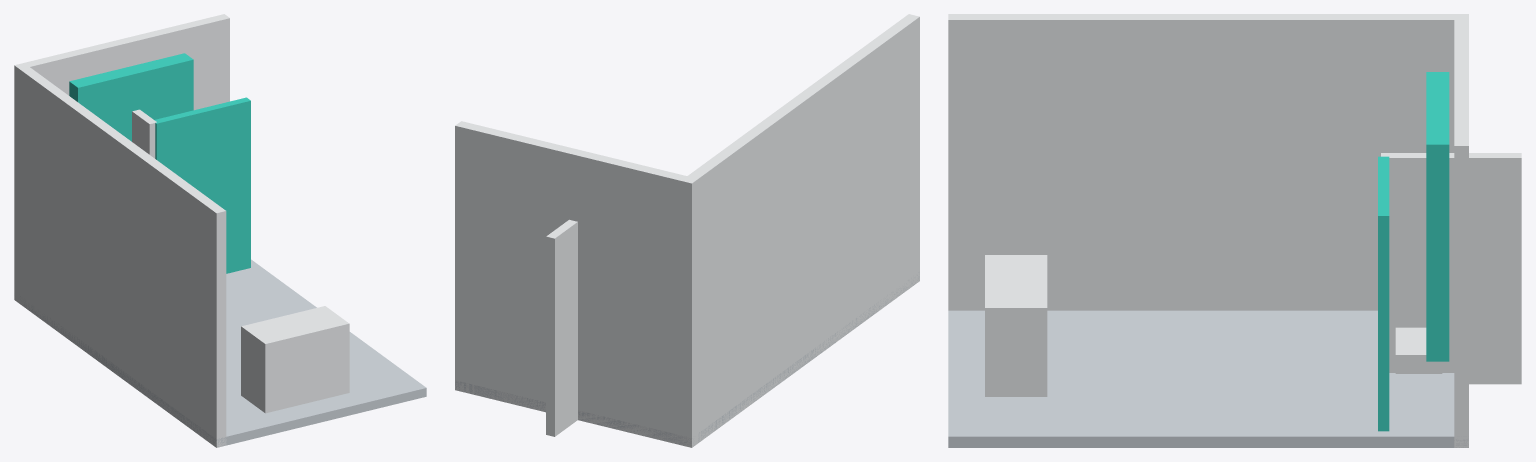
The picture shows the model from 3 angles, left to right: view 1: azimuth 30°, elevation 25°; view 2: azimuth 150°, elevation 25°; view 3: azimuth 270°, elevation 25°; orthographic projection. The views are drawn at different scales.
Visible parts, largest first — view 1: Exhibition Booth Concept; view 2: Exhibition Booth Concept; view 3: Exhibition Booth Concept.
Boxes of the visible parts, box(x1,y1,x2,y2) form: Exhibition Booth Concept: box(14, 14, 426, 447); Exhibition Booth Concept: box(455, 14, 919, 447); Exhibition Booth Concept: box(948, 14, 1521, 447).
Bounding box in the file's own units: 3 × 3.2 × 5.51.
